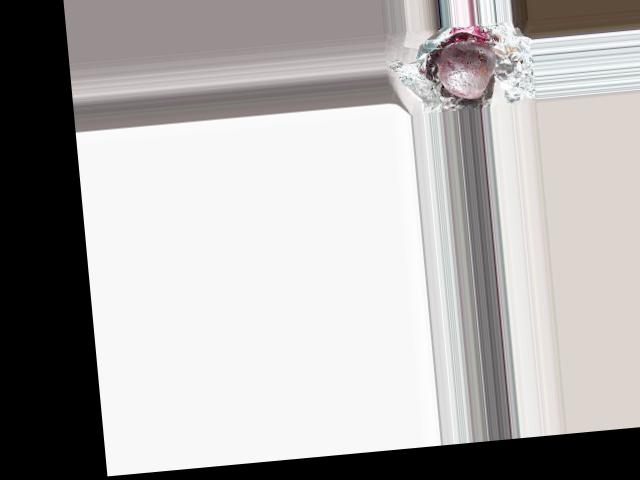beet: (434, 40, 500, 101)
